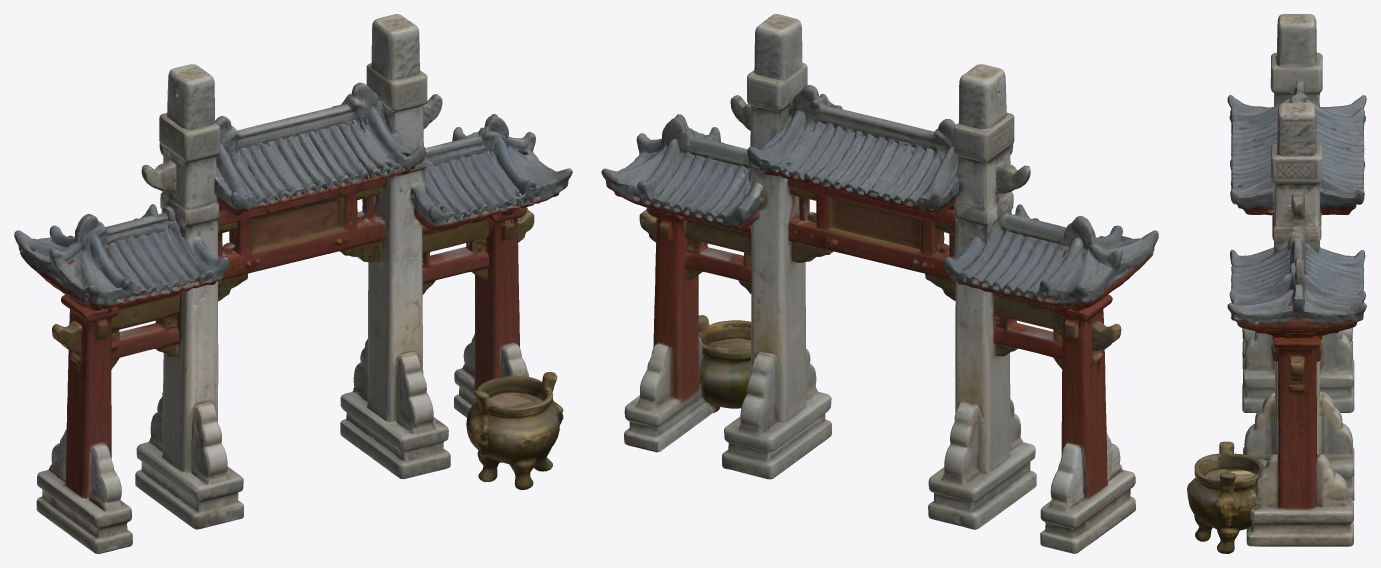
File: gate-stone_textured.glb
The picture shows the model from 3 angles, left to right: view 1: azimuth 30°, elevation 25°; view 2: azimuth 150°, elevation 25°; view 3: azimuth 270°, elevation 25°; orthographic projection. The views are drawn at different scales.
Visible parts, largest first — view 1: geometry_0; view 2: geometry_0; view 3: geometry_0.
Part boxes in pixels (box(x1,y1,x2,y2)): geometry_0: box(14, 14, 572, 553); geometry_0: box(601, 14, 1158, 553); geometry_0: box(1187, 14, 1366, 553).
Bounding box in the file's own units: 1.02 × 0.9 × 0.3674.
1 material, 1 textured.
